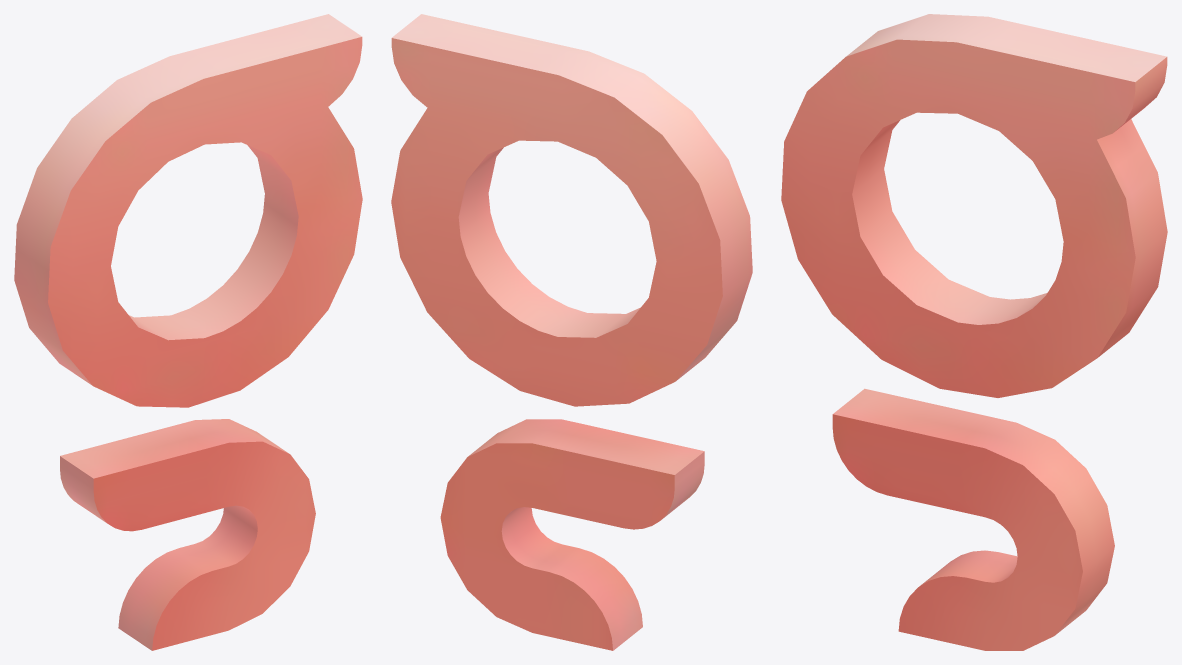
The picture shows the model from 3 angles, left to right: view 1: azimuth 30°, elevation 25°; view 2: azimuth 150°, elevation 25°; view 3: azimuth 330°, elevation 25°; orthographic projection. The views are drawn at different scales.
Visible parts, largest first — view 1: Logo_Rotation; view 2: Logo_Rotation; view 3: Logo_Rotation.
Boxes of the visible parts, box(x1,y1,x2,y2) form: Logo_Rotation: box(14, 14, 362, 650); Logo_Rotation: box(391, 14, 752, 650); Logo_Rotation: box(781, 14, 1167, 650).
Bounding box in the file's own units: 84.43 × 139 × 17.47.
Materials: 1 (1 with a texture image).
